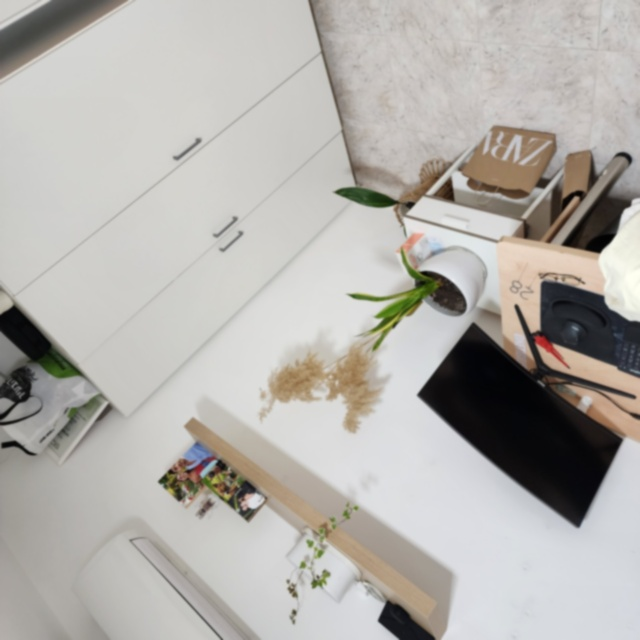glasses: (533, 264, 588, 289)
